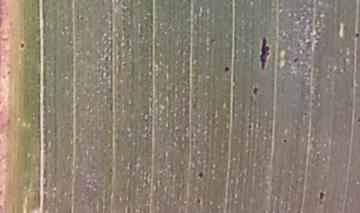tarspot: (255, 34, 273, 71), (250, 81, 261, 99), (316, 188, 328, 204), (195, 168, 206, 181), (16, 39, 28, 50), (193, 194, 204, 206), (222, 62, 233, 74), (245, 122, 256, 132), (291, 55, 301, 65), (351, 30, 360, 41), (280, 136, 289, 145)
